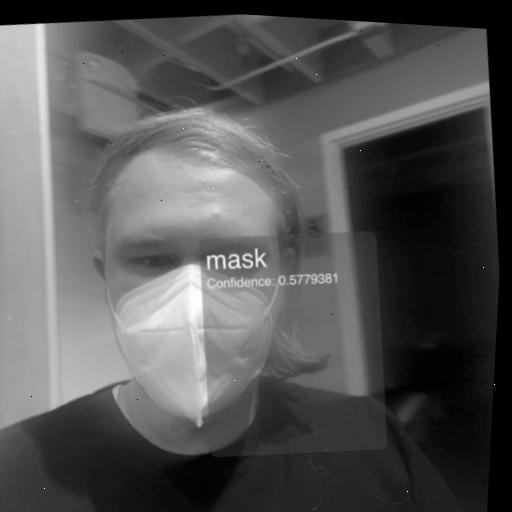mask: (50, 87, 363, 485)
